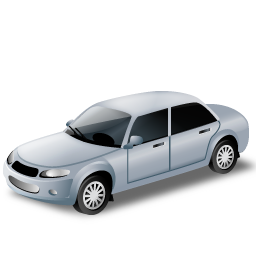car: (4, 88, 256, 219)
